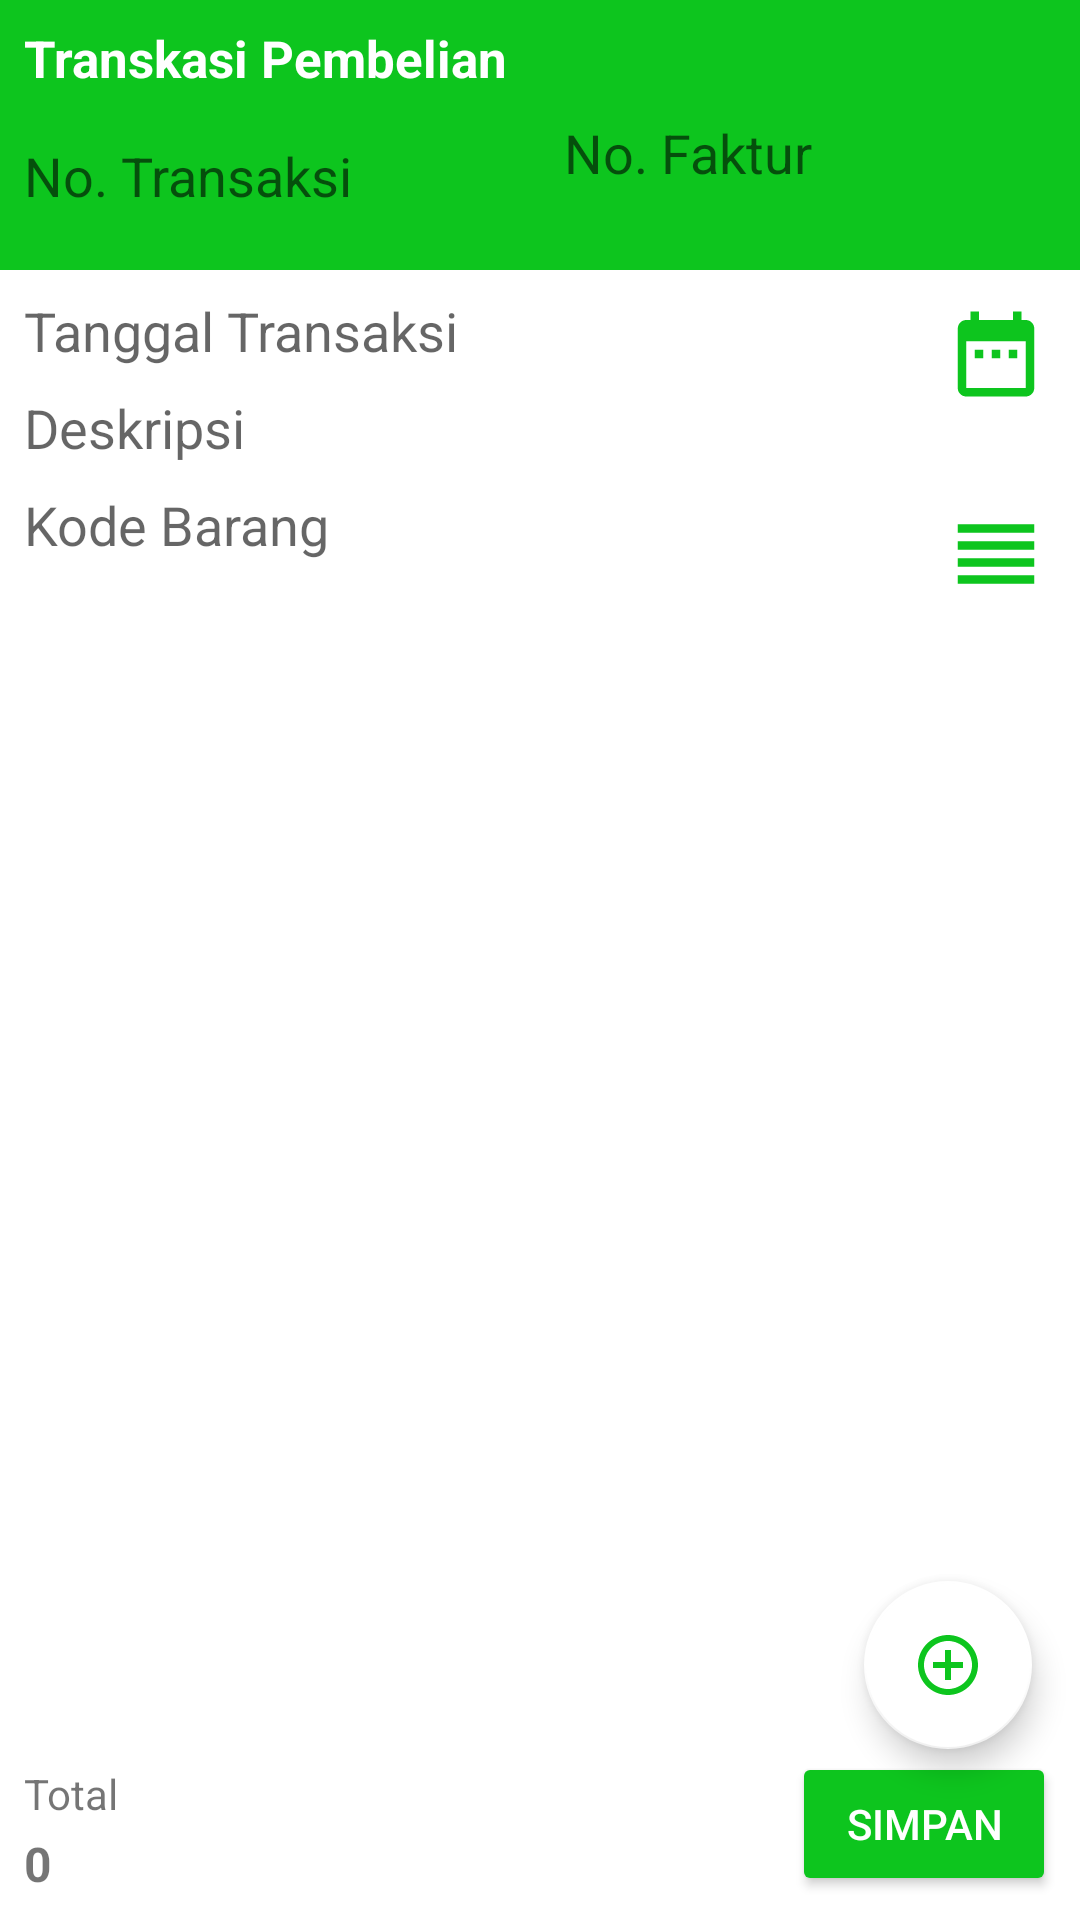

Screen size 1080px×1920px. Icon name, then its center in pixels as [x,y]:
date range: [996,354]
reorder: [996,554]
